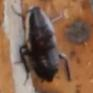cockroach: (20, 6, 62, 81)
